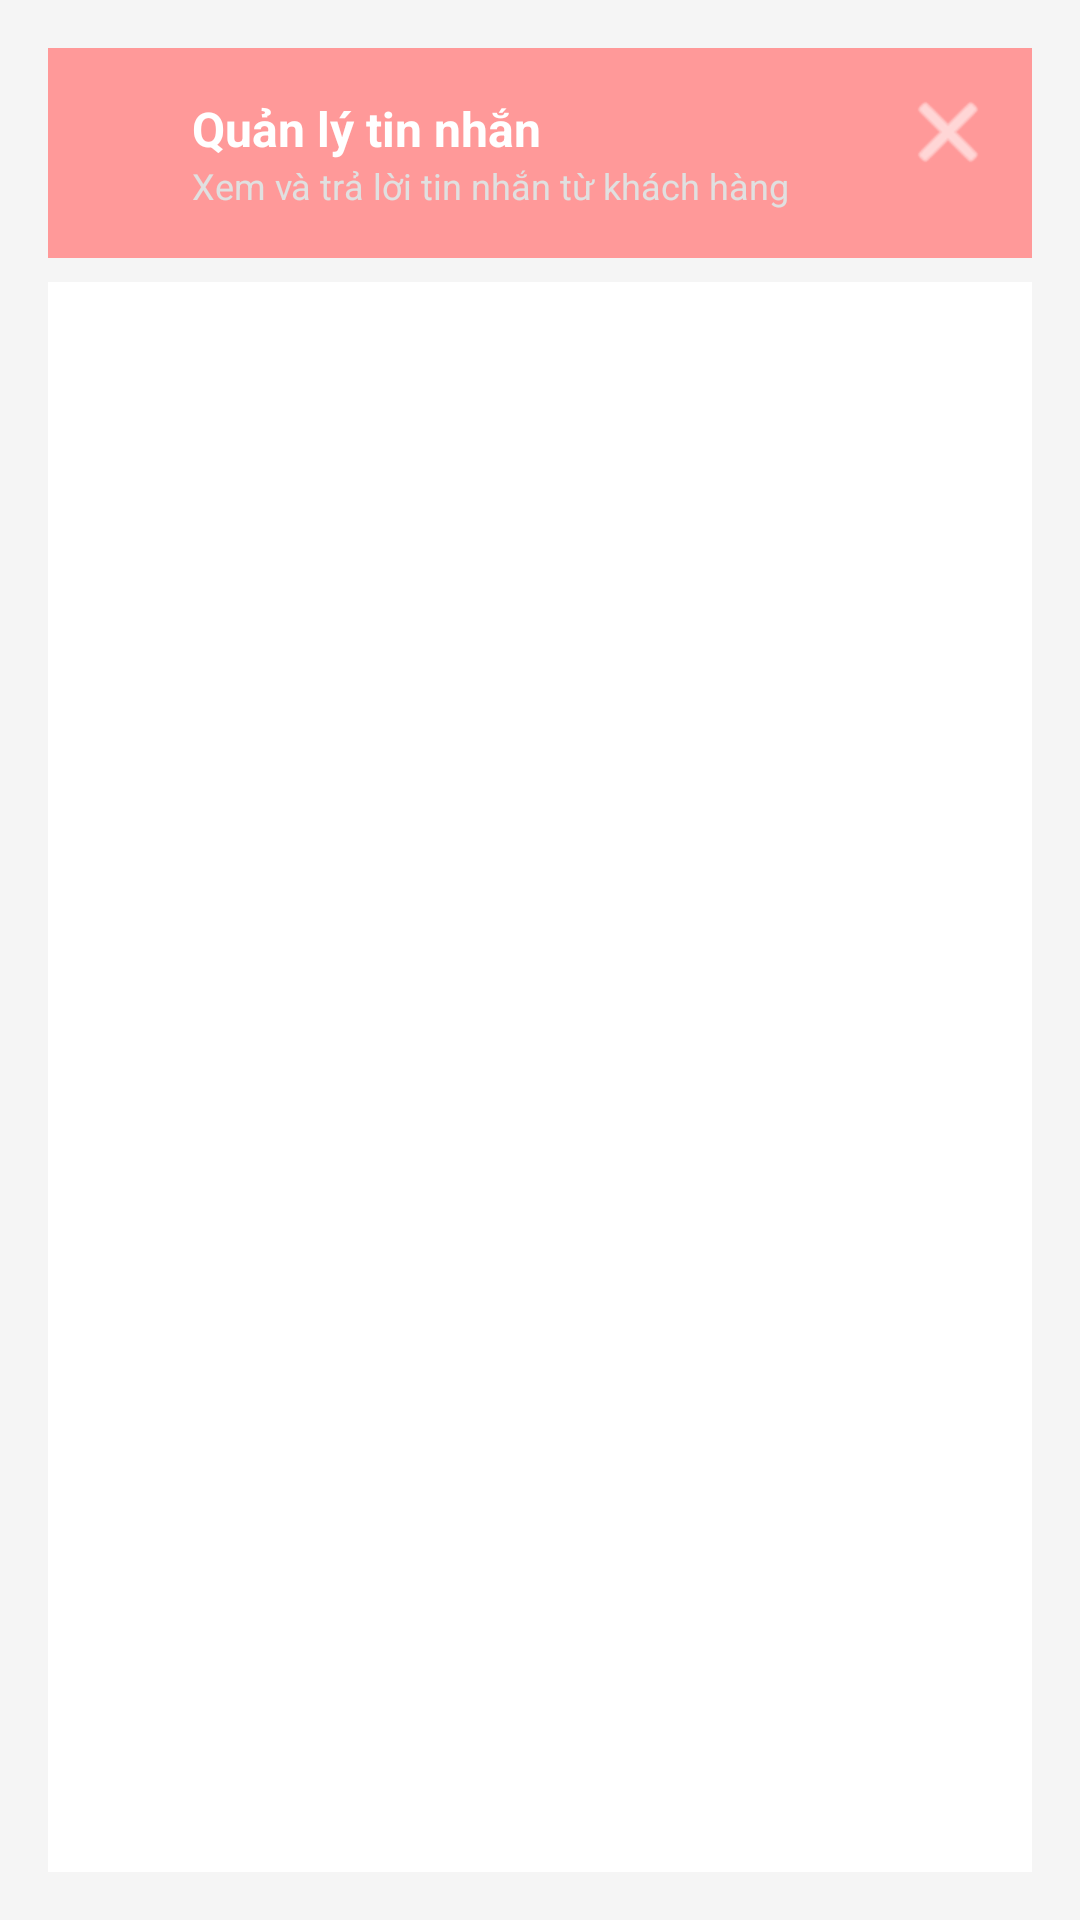

Where to tap for icons on this 1080px×1920px app screen, as (x,y):
close clear cancel: (948,132)
